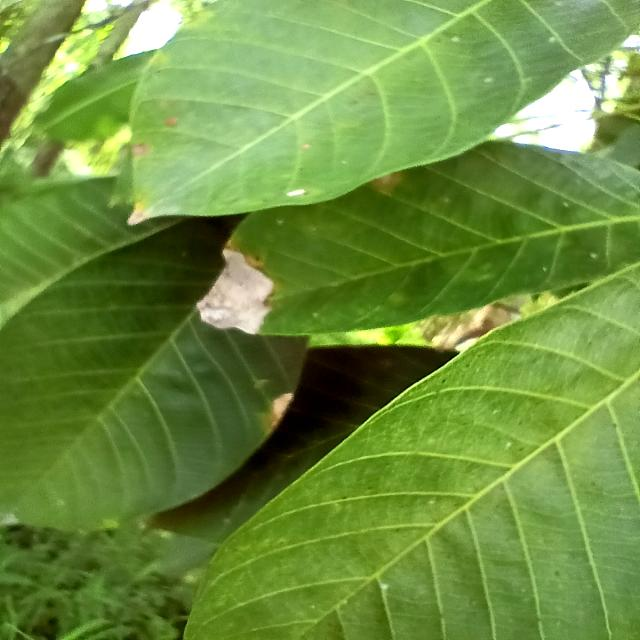Leaf-Blight: (195, 246, 274, 335)
